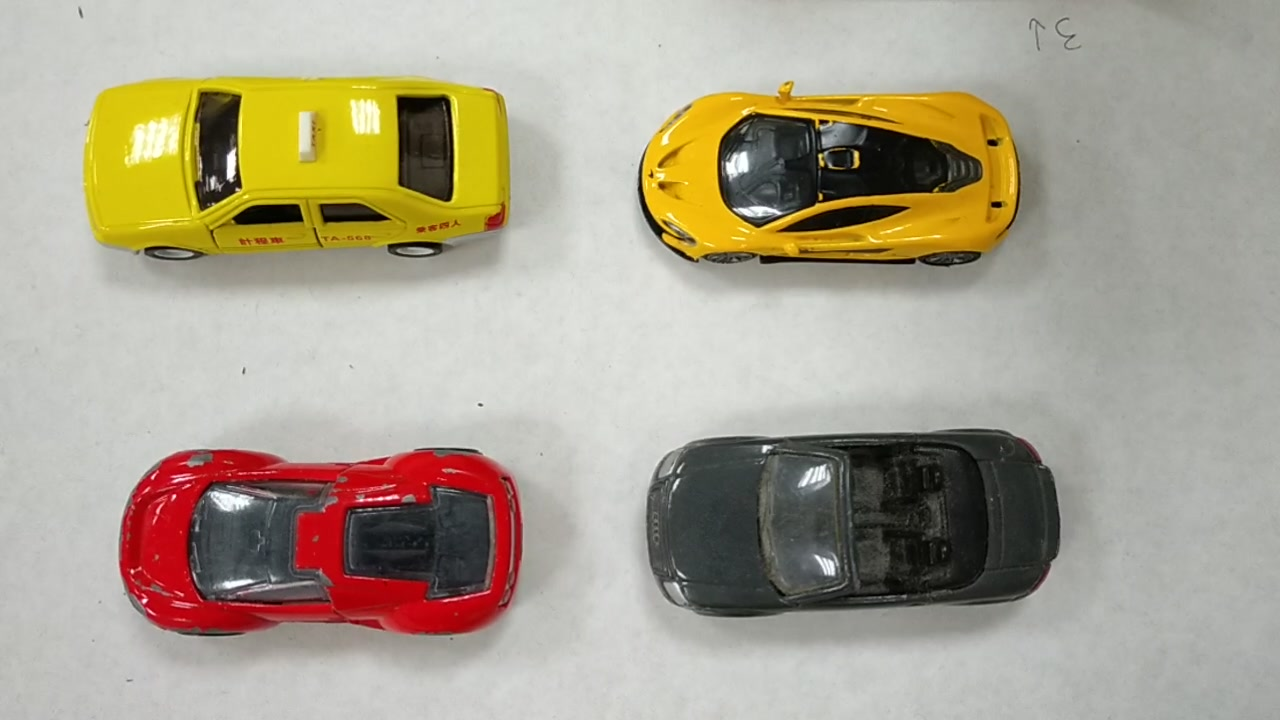car: (119, 450, 539, 641), (84, 79, 509, 266), (641, 436, 1069, 616), (637, 87, 1027, 266)
